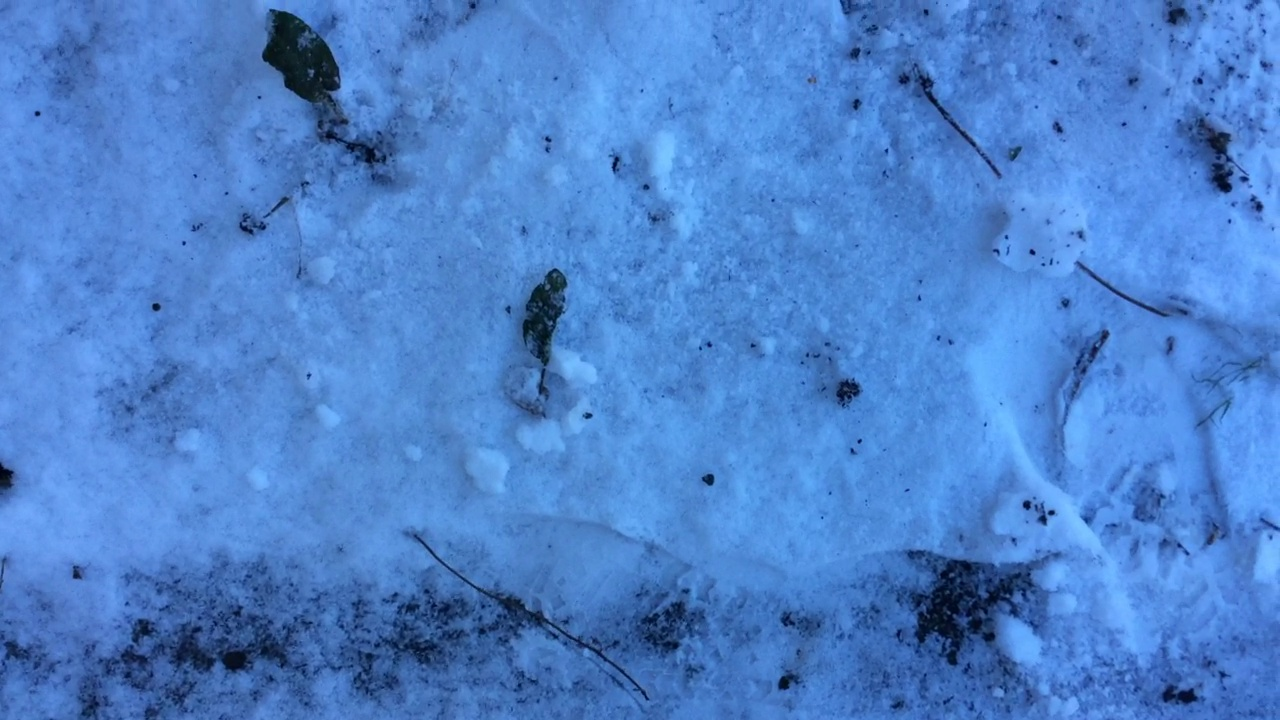root: (527, 383, 558, 417), (322, 122, 350, 148)
rumex: (259, 6, 364, 164), (513, 264, 570, 418)
